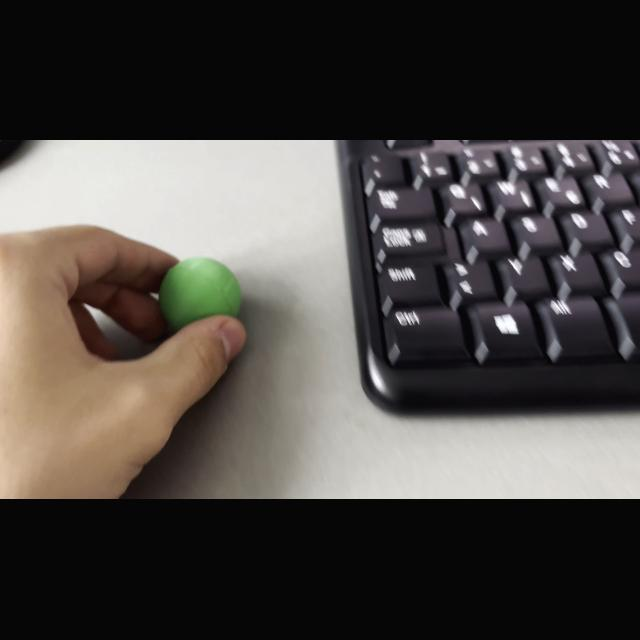objects: (154, 252, 248, 326)
